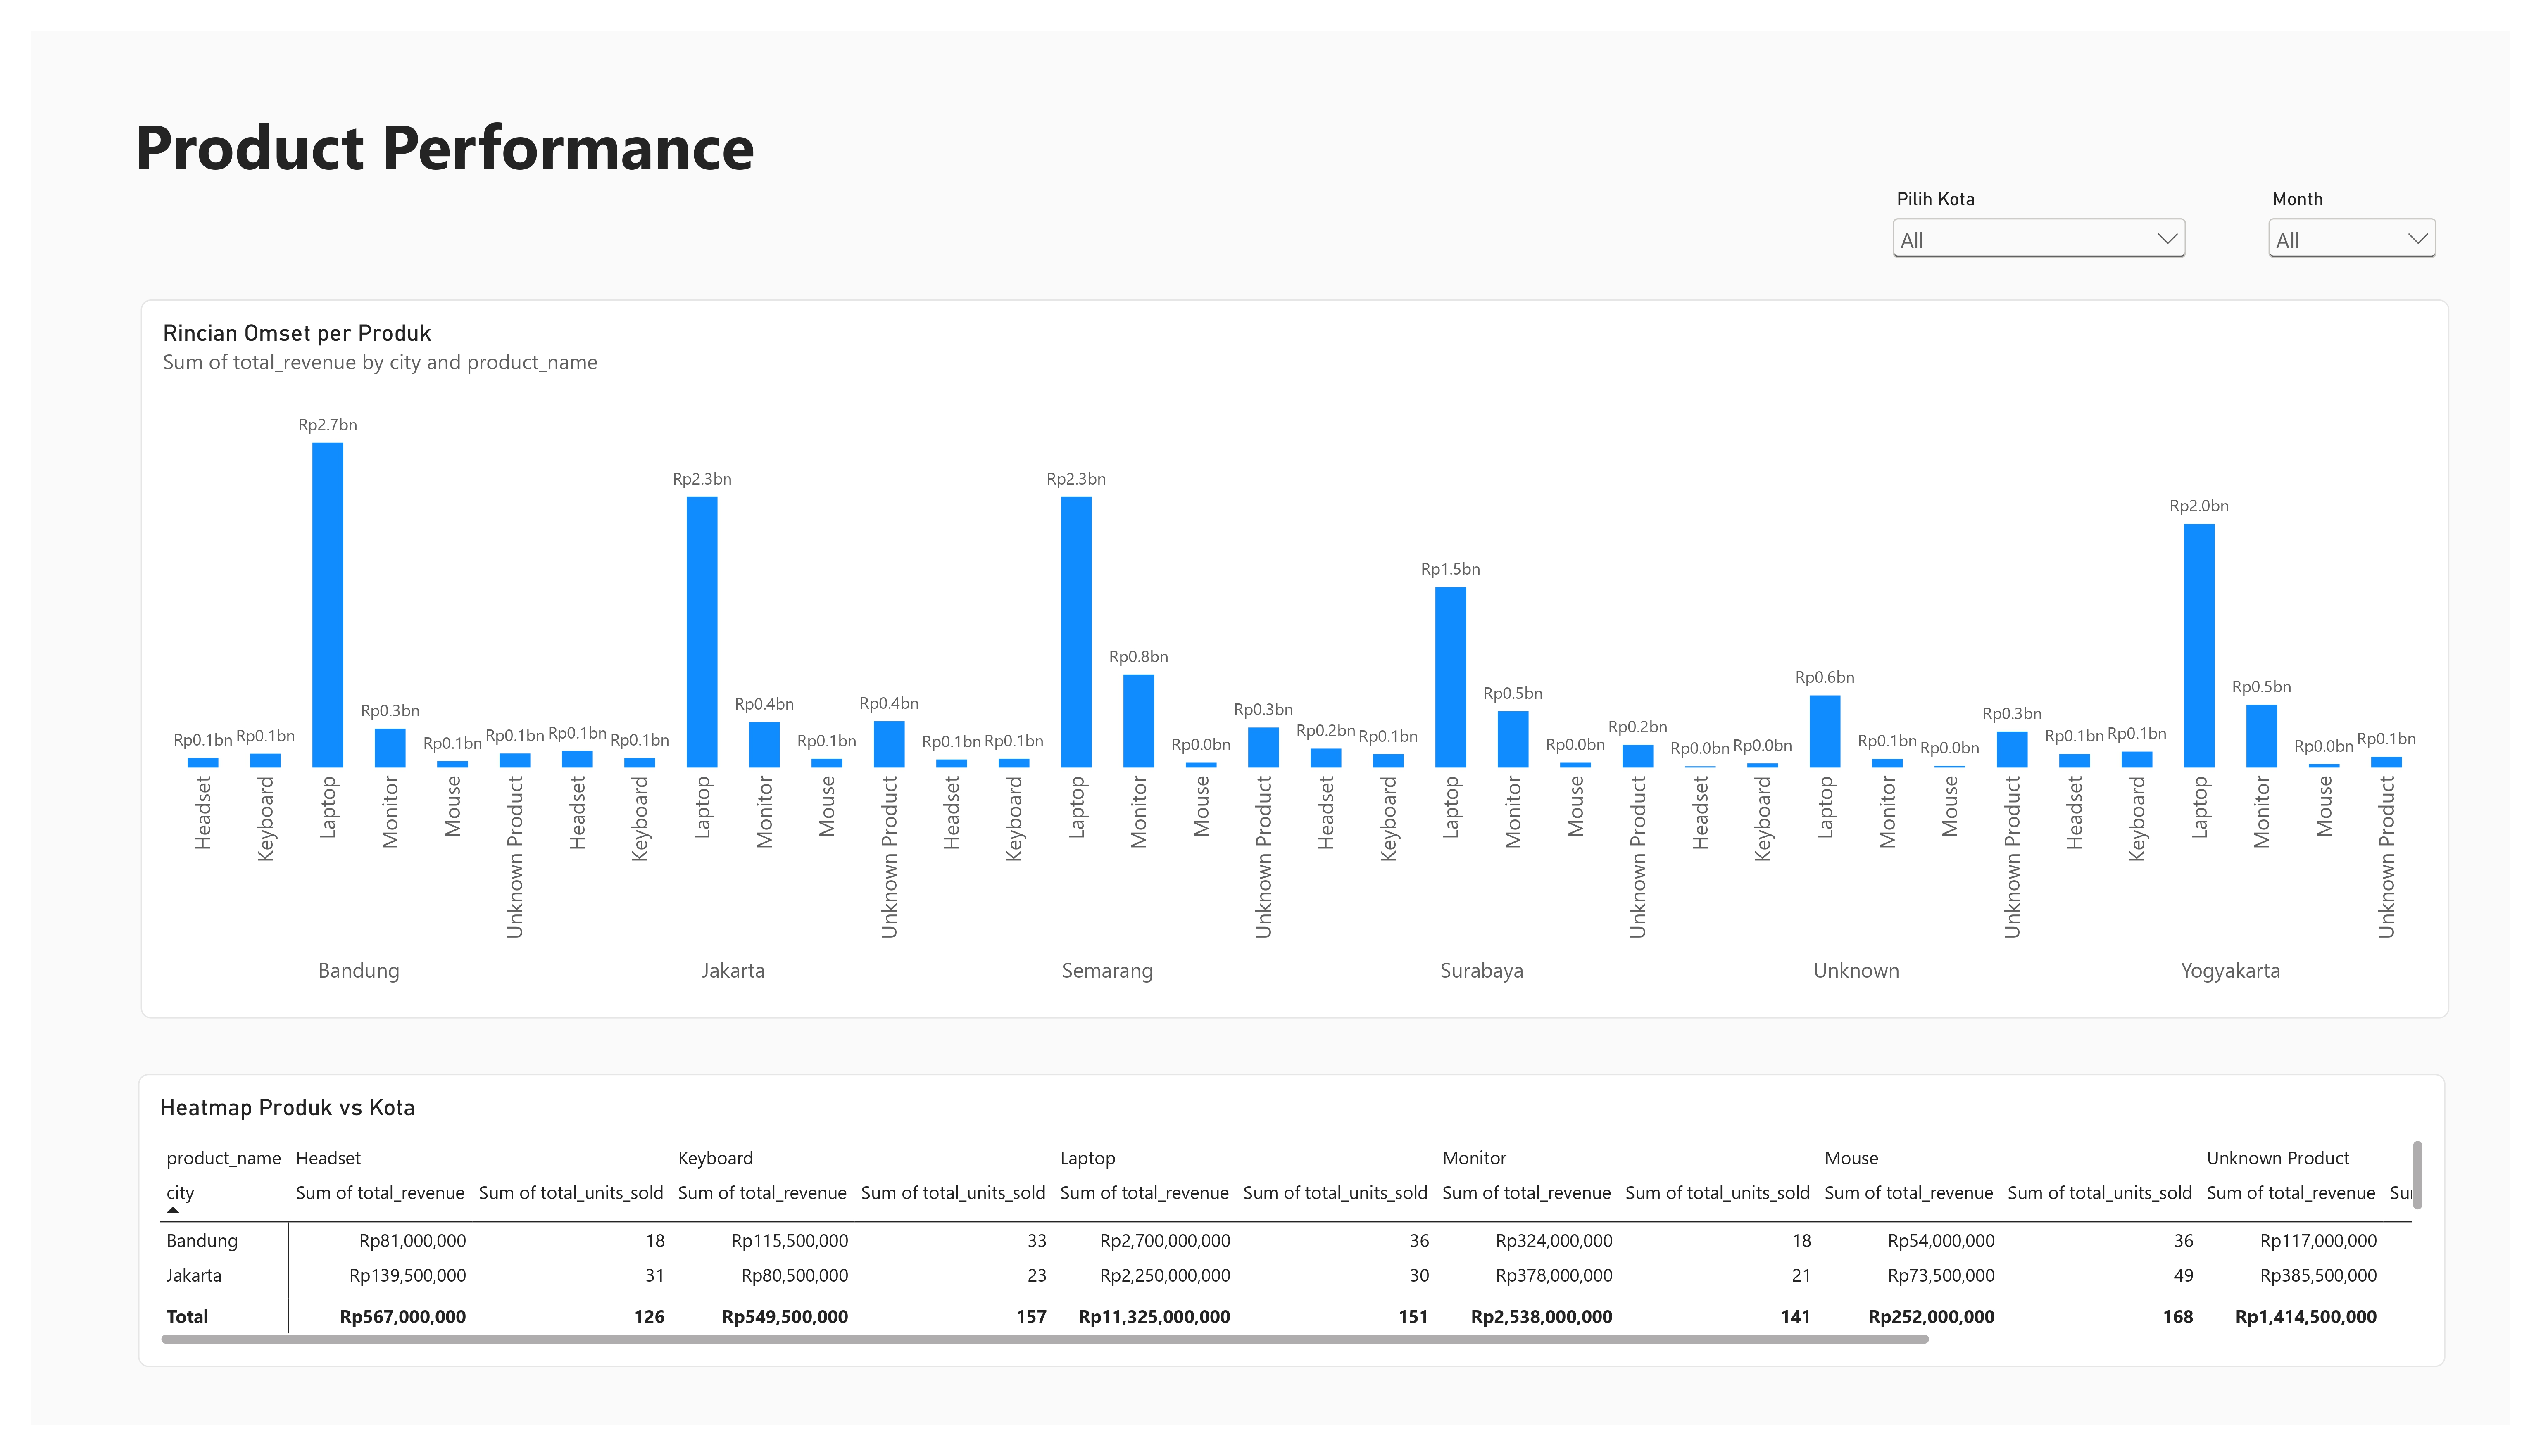

The dashboard page shown, as its layout file describes it:
{"tool":"powerbi","page":{"name":"Product Performance","canvas":[1920,1080],"ordinal":1},"visuals":[{"type":"slicer","fields":{"Values":["mart_daily_sales.sale_date.Variation.Date Hierarchy.Month"]},"box":[1728.3,121.7,140,84],"z":0},{"type":"slicer","fields":{"Values":["mart_sales_by_city_product.city"]},"box":[1436.7,121.7,237.5,65],"z":1000},{"type":"textbox","box":[80,55,565,67.5],"z":2000},{"type":"columnChart","title":"Rincian Omset per Produk","fields":{"Category":["mart_sales_by_city_product.city","mart_sales_by_city_product.product_name"],"Y":["Sum(mart_sales_by_city_product.total_revenue)"]},"box":[85,207.5,1787.5,557.5],"z":3000},{"type":"pivotTable","title":"Heatmap Produk vs Kota","fields":{"Rows":["mart_sales_by_city_product.city"],"Columns":["mart_sales_by_city_product.product_name"],"Values":["Sum(mart_sales_by_city_product.total_revenue)","Sum(mart_sales_by_city_product.total_units_sold)"]},"box":[82.5,807.5,1787.5,227.5],"z":4000},{"type":"textbox","box":[85,783.8,1787.5,37.5],"z":4001}]}

Visuals, with their boxes on the page's 1920x1080 design canvas (x1, y1, x2, y2). These are canvas units, not pixel positions in the 2541x1456 screenshot, which may show the page scaled, cropped or inside an application window:
slicer - mart_daily_sales.sale_date.Variation.Date Hierarchy.Month: 1728:122:1868:206
slicer - mart_sales_by_city_product.city: 1437:122:1674:187
textbox: 80:55:645:122
"Rincian Omset per Produk" columnChart: 85:208:1872:765
"Heatmap Produk vs Kota" pivotTable: 82:808:1870:1035
textbox: 85:784:1872:821
